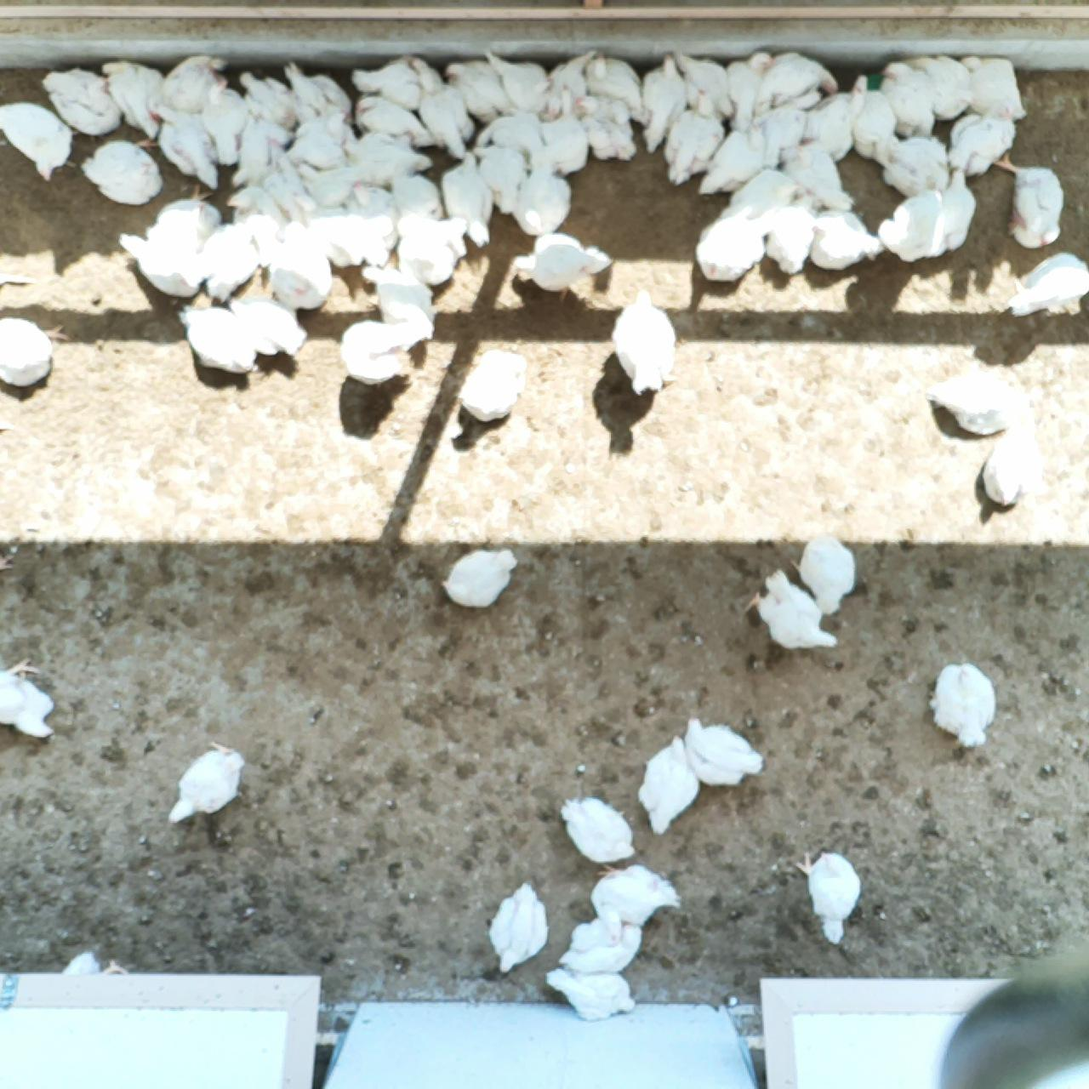chicken: (141, 90, 224, 192), (404, 53, 475, 168), (742, 570, 839, 654), (610, 285, 680, 399), (925, 365, 1032, 439), (505, 231, 614, 300), (795, 846, 866, 947), (636, 731, 703, 837), (431, 147, 498, 253), (976, 415, 1051, 509), (356, 263, 444, 343), (0, 94, 83, 178), (172, 737, 246, 830), (260, 221, 335, 312), (36, 61, 119, 142), (223, 180, 295, 273), (994, 153, 1064, 248), (799, 71, 872, 162), (177, 301, 264, 377), (931, 660, 1000, 755), (483, 878, 550, 975), (774, 136, 853, 218), (114, 230, 207, 299), (338, 318, 432, 385), (752, 46, 844, 114), (752, 192, 823, 280), (945, 103, 1023, 183), (693, 203, 767, 286), (512, 143, 575, 240), (663, 90, 726, 186), (792, 529, 862, 615), (872, 187, 949, 265), (554, 909, 649, 972), (335, 126, 433, 187), (680, 717, 765, 787), (72, 137, 162, 203), (0, 309, 71, 392), (589, 861, 680, 925), (98, 57, 168, 140), (800, 203, 888, 269), (304, 203, 393, 268), (393, 209, 467, 287), (459, 343, 530, 424), (698, 119, 773, 194), (1004, 254, 1089, 320), (559, 794, 639, 863), (440, 544, 522, 611), (537, 81, 593, 179), (347, 56, 441, 114), (467, 135, 533, 217), (871, 57, 937, 139), (224, 105, 295, 181), (142, 182, 220, 251), (578, 50, 647, 128), (279, 102, 358, 170), (538, 967, 640, 1019), (226, 296, 311, 358), (570, 86, 635, 167), (0, 656, 59, 745), (952, 55, 1028, 124), (199, 219, 261, 303), (909, 48, 974, 128), (637, 51, 686, 157), (716, 166, 806, 223), (445, 57, 514, 131), (761, 86, 820, 172), (253, 140, 311, 225), (879, 132, 950, 201), (479, 51, 553, 117), (159, 52, 228, 121), (283, 62, 350, 132), (674, 49, 735, 124), (226, 113, 282, 193), (723, 48, 773, 135), (348, 94, 433, 145), (850, 87, 902, 168), (381, 161, 446, 224), (237, 68, 296, 137), (929, 167, 977, 251), (200, 80, 247, 165), (472, 108, 547, 160), (292, 157, 360, 214), (543, 51, 597, 121), (342, 178, 401, 234), (55, 950, 134, 979)
